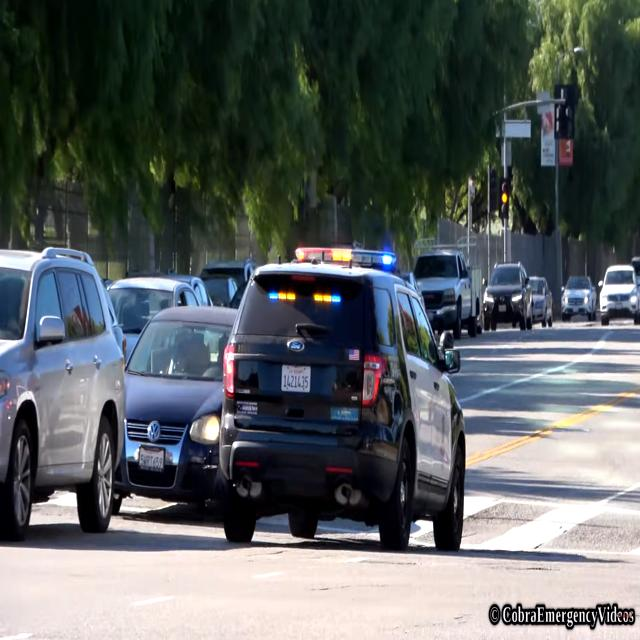emergency-vehicles: (200, 232, 480, 579)
